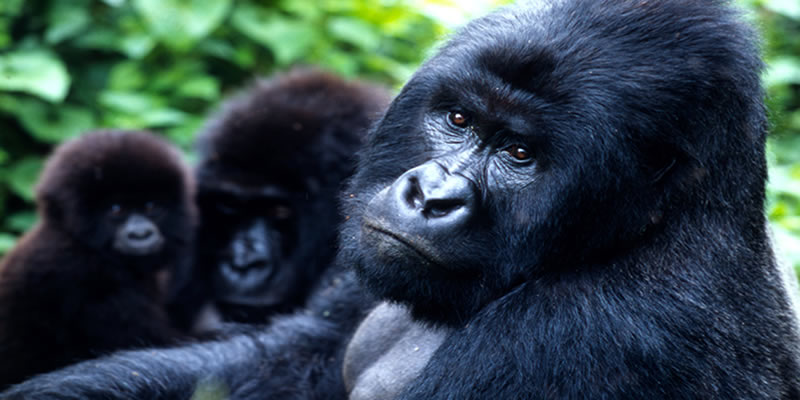Goriila: (311, 25, 780, 400), (30, 105, 205, 349)
